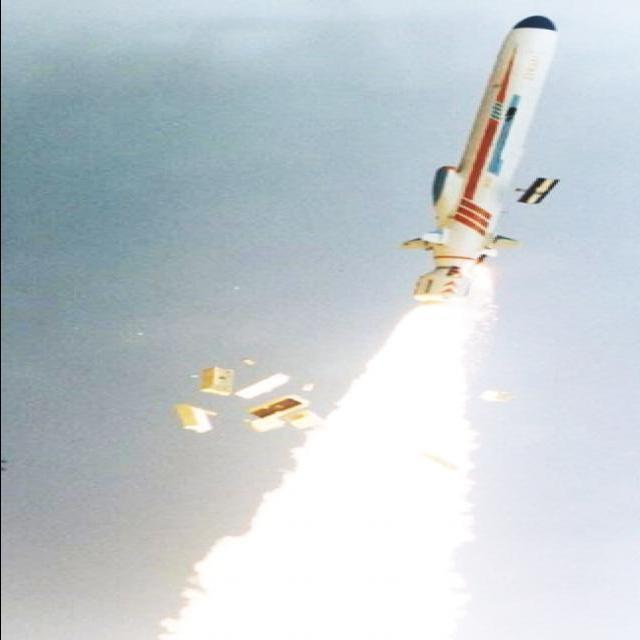missile: (411, 13, 566, 304)
